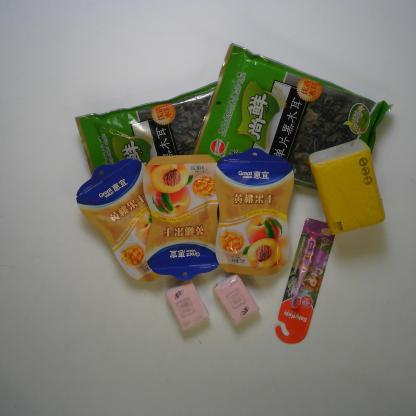Dried Food: (193, 41, 394, 194), (71, 78, 219, 176)
Dried Fruit: (213, 146, 296, 276), (141, 152, 221, 280), (75, 158, 153, 287)
Personal Hygiene: (274, 215, 336, 346)
Tissue: (305, 136, 386, 237), (212, 272, 260, 326), (164, 278, 210, 334)
